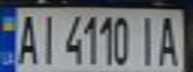0: (112, 11, 133, 66)
1: (81, 11, 100, 65), (96, 12, 115, 65)
4: (60, 11, 84, 65)
A: (12, 10, 42, 66), (154, 12, 184, 68)
I: (136, 11, 160, 68), (36, 10, 60, 65)
